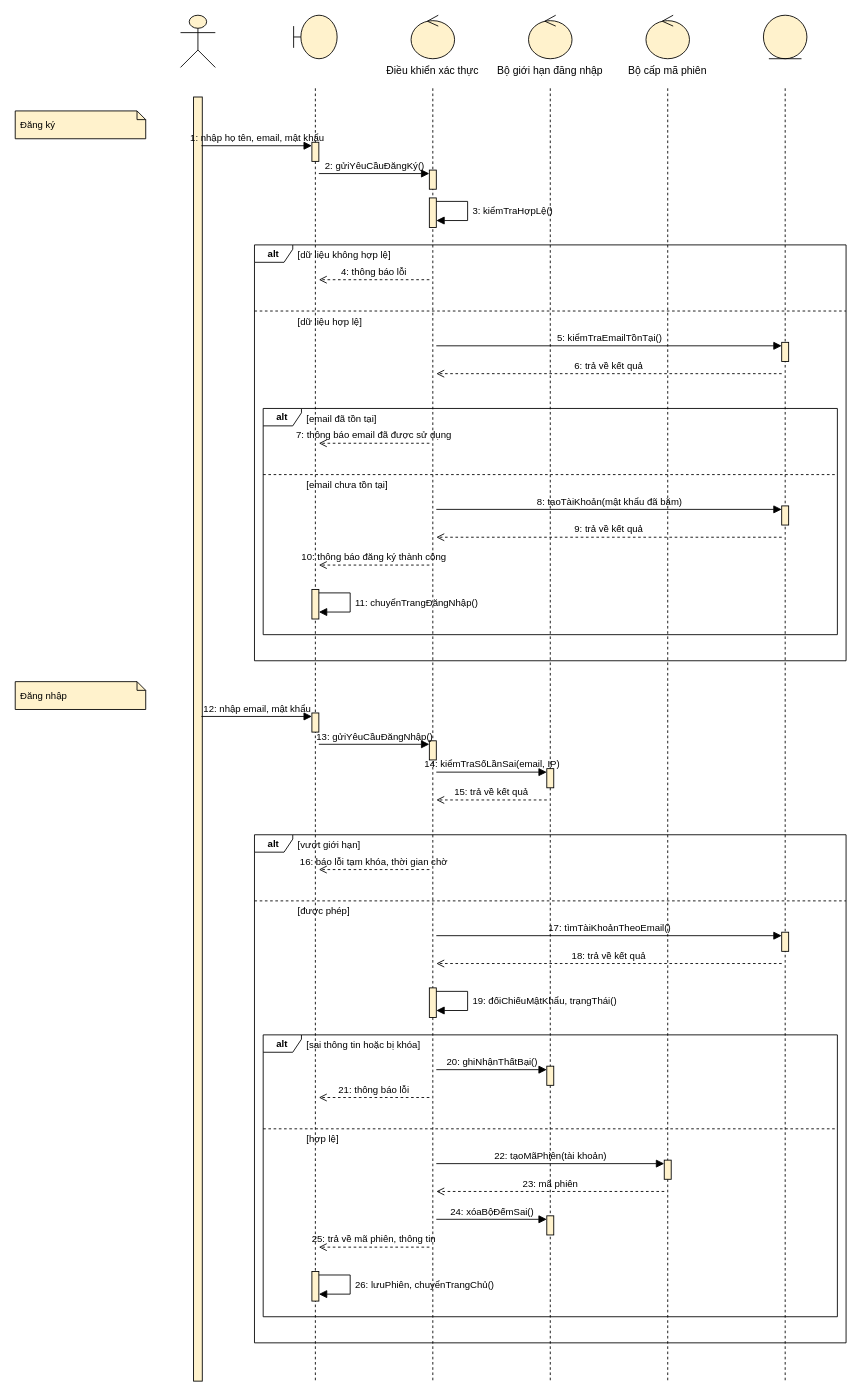
Some shapes in this 862 by 1397 pixel diagram are drawn without their labels. Here are the shapes that lost their labels. From the top down, the box of each, then its label:
(180, 14, 215, 67): Người dùng
(293, 14, 337, 59): Giao diện xác thực
(763, 14, 807, 59): Tài khoản
